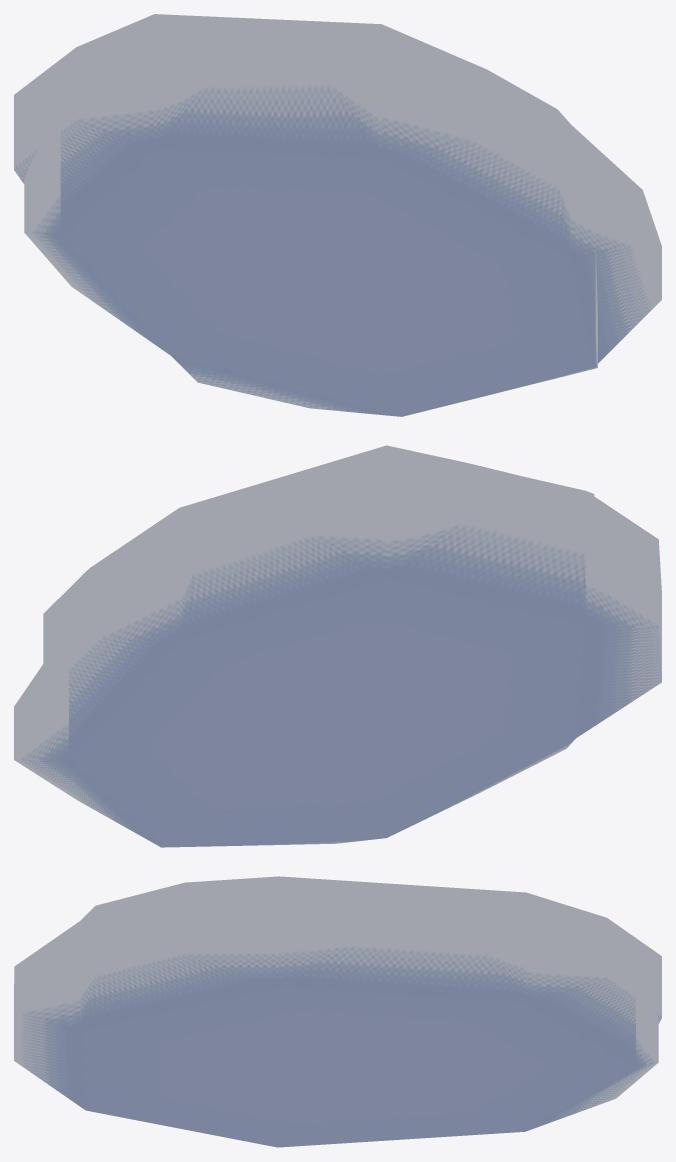
Rendered from 045f_Scattered_Clouds.glb.
The picture shows the model from 3 angles, top to bottom: view 1: azimuth 30°, elevation 25°; view 2: azimuth 150°, elevation 25°; view 3: azimuth 270°, elevation 25°; orthographic projection. The views are drawn at different scales.
Visible parts, largest first — view 1: part_0; view 2: part_0; view 3: part_0.
Part boxes in pixels (x1,y1,x2,y2): part_0: (14,14,661,416); part_0: (14,445,661,847); part_0: (14,876,661,1147).
Size of the model in its own units: 3.77 by 1 by 5.32.
Materials: 1 (1 with a texture image).
